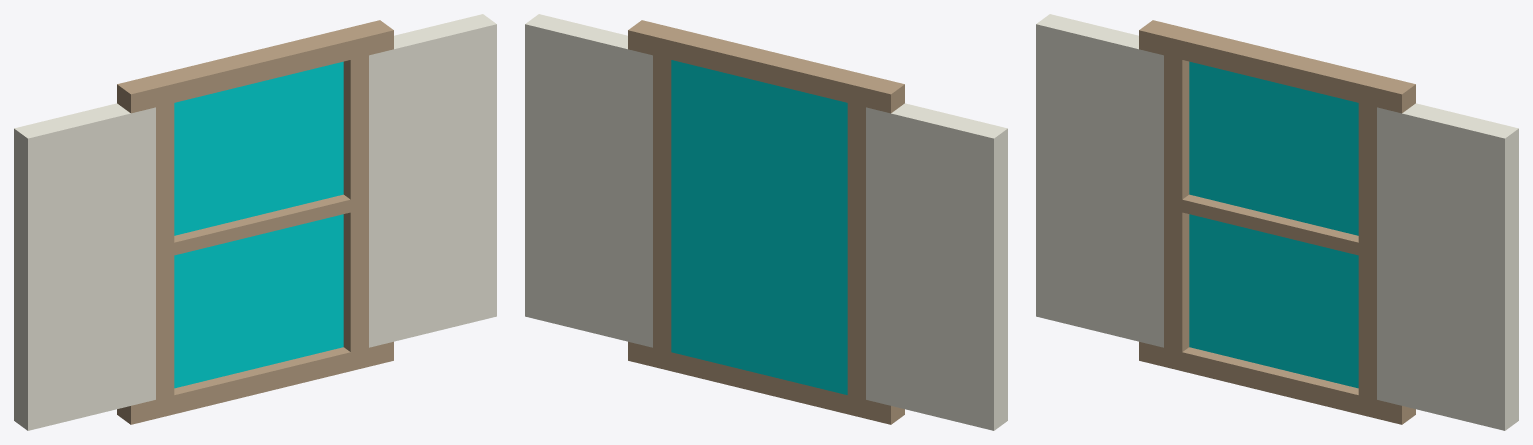
Rendered from window.glb.
3 views of the same model, side by side, from view 1: azimuth 30°, elevation 25°; view 2: azimuth 150°, elevation 25°; view 3: azimuth 330°, elevation 25° (orthographic).
Visible parts, largest first — view 1: RAL_1013_Oyster_white (×2), Cyan, RAL_1011_Brown_beige (×5); view 2: RAL_1013_Oyster_white (×2), Cyan, RAL_1011_Brown_beige (×4); view 3: RAL_1013_Oyster_white (×2), Cyan, RAL_1011_Brown_beige (×5).
Part boxes in pixels (<box>): RAL_1013_Oyster_white (×2): <box>14,14,496,430</box>; Cyan: <box>174,61,343,388</box>; RAL_1011_Brown_beige (×5): <box>117,20,393,424</box>; RAL_1013_Oyster_white (×2): <box>525,14,1007,430</box>; Cyan: <box>671,60,847,394</box>; RAL_1011_Brown_beige (×4): <box>628,20,904,424</box>; RAL_1013_Oyster_white (×2): <box>1036,14,1518,430</box>; Cyan: <box>1189,61,1358,388</box>; RAL_1011_Brown_beige (×5): <box>1139,20,1415,424</box>.
Size of the model in its own units: 1.34 by 0.9014 by 0.0688.
